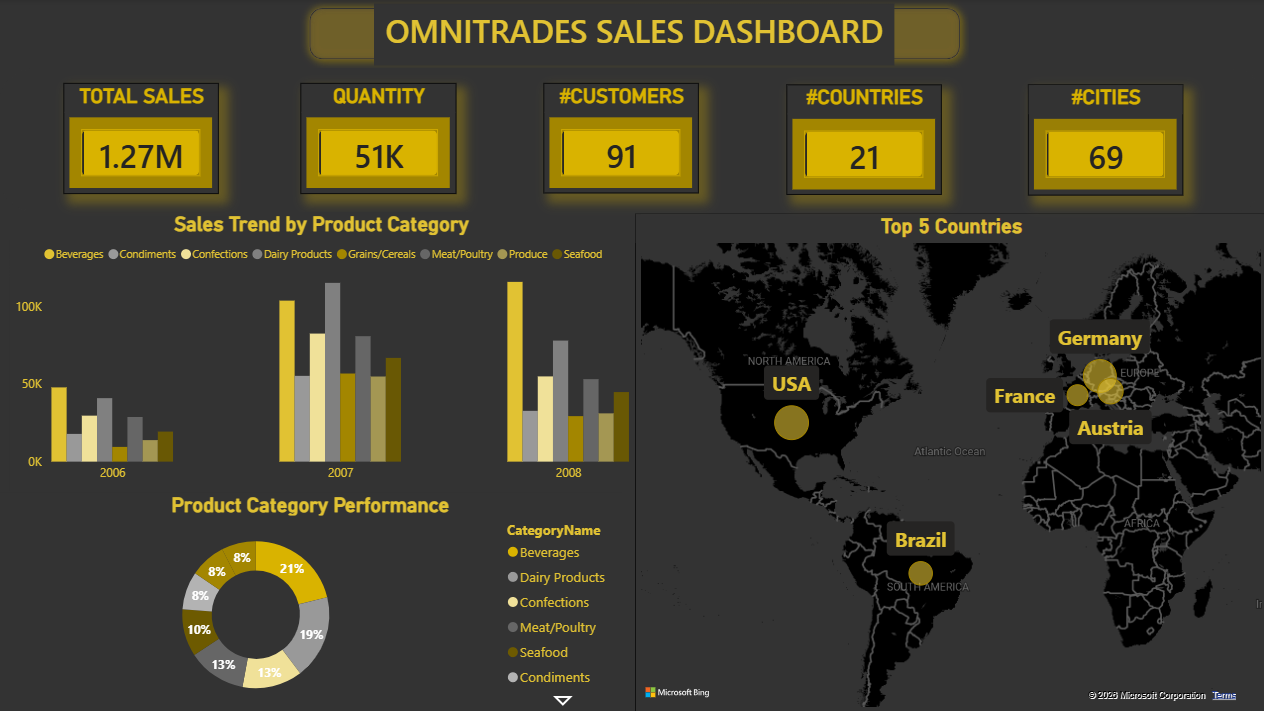

Layout of this report page (visuals, bound fields, positions):
{"tool":"powerbi","page":{"name":"Page 1","canvas":[1280,720],"ordinal":0},"visuals":[{"type":"shape","box":[0,0,1280,720],"z":0},{"type":"shape","box":[304.3,0,674.7,69.9],"z":1000},{"type":"textbox","box":[378.4,4.4,525.5,62.6],"z":2000},{"type":"shape","box":[0,69.7,1279.5,145.4],"z":3000},{"type":"cardVisual","title":"QUANTITY","fields":{"Data":["Sum(new_OrderDetails.Quantity)"]},"box":[304.4,84.8,157.5,112.1],"z":4000},{"type":"clusteredColumnChart","title":"Sales Trend by Product Category","fields":{"Category":["new_SalesOrder.OrderDate.Variation.Date Hierarchy.Year","new_SalesOrder.OrderDate.Variation.Date Hierarchy.Month"],"Y":["Sum(new_OrderDetails.Sales)"],"Series":["new_CategoryDetails.CategoryName"]},"box":[10,215,630,281.7],"z":5000},{"type":"donutChart","title":"Product Category Performance","fields":{"Category":["new_CategoryDetails.CategoryName"],"Y":["Sum(new_OrderDetails.Sales)"]},"box":[0,497.8,628.8,222.7],"z":6000},{"type":"map","title":"Top 5 Countries","fields":{"Category":["new_CustomerDetails.Country"],"Size":["Sum(new_OrderDetails.Sales)"]},"box":[642,216,638,504],"z":7000},{"type":"cardVisual","title":"TOTAL SALES","fields":{"Data":["Sum(new_OrderDetails.Sales)"]},"box":[65,85,156.7,111.7],"z":8000},{"type":"cardVisual","title":"#CUSTOMERS","fields":{"Data":["CountNonNull(new_CustomerDetails.CustID)"]},"box":[549.9,85,156.9,111.5],"z":9000},{"type":"cardVisual","title":"#COUNTRIES","fields":{"Data":["Count(new_CustomerDetails.Country)"]},"box":[795.6,86.9,156.9,111.5],"z":10000},{"type":"cardVisual","title":"#CITIES","fields":{"Data":["Count(new_CustomerDetails.City)"]},"box":[1038.3,86.7,156.7,111.7],"z":11000}]}

Visuals, with their boxes in screenshot pixels (x1, y1, x2, y2), scaled from the page's 1280x720 canvas onto the 1264x711 screenshot:
shape: bbox(0, 0, 1263, 710)
shape: bbox(300, 0, 967, 69)
textbox: bbox(374, 4, 893, 66)
shape: bbox(0, 69, 1263, 212)
"QUANTITY" cardVisual: bbox(301, 84, 456, 194)
"Sales Trend by Product Category" clusteredColumnChart: bbox(10, 212, 632, 490)
"Product Category Performance" donutChart: bbox(0, 492, 621, 710)
"Top 5 Countries" map: bbox(634, 213, 1263, 710)
"TOTAL SALES" cardVisual: bbox(64, 84, 219, 194)
"#CUSTOMERS" cardVisual: bbox(543, 84, 698, 194)
"#COUNTRIES" cardVisual: bbox(786, 86, 941, 196)
"#CITIES" cardVisual: bbox(1025, 86, 1180, 196)
